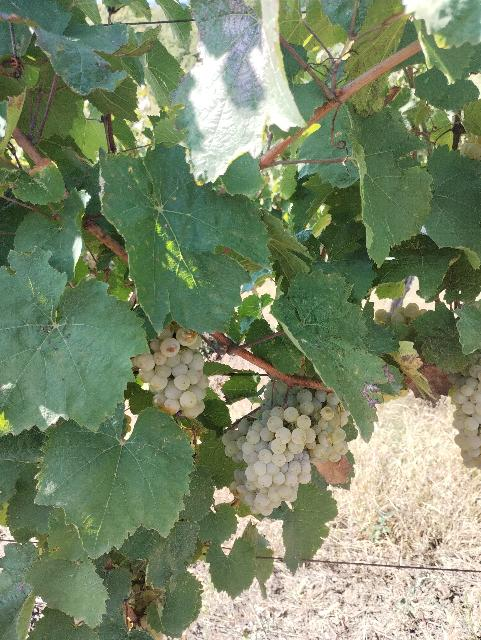grapes: (222, 406, 315, 516), (132, 321, 209, 419)
